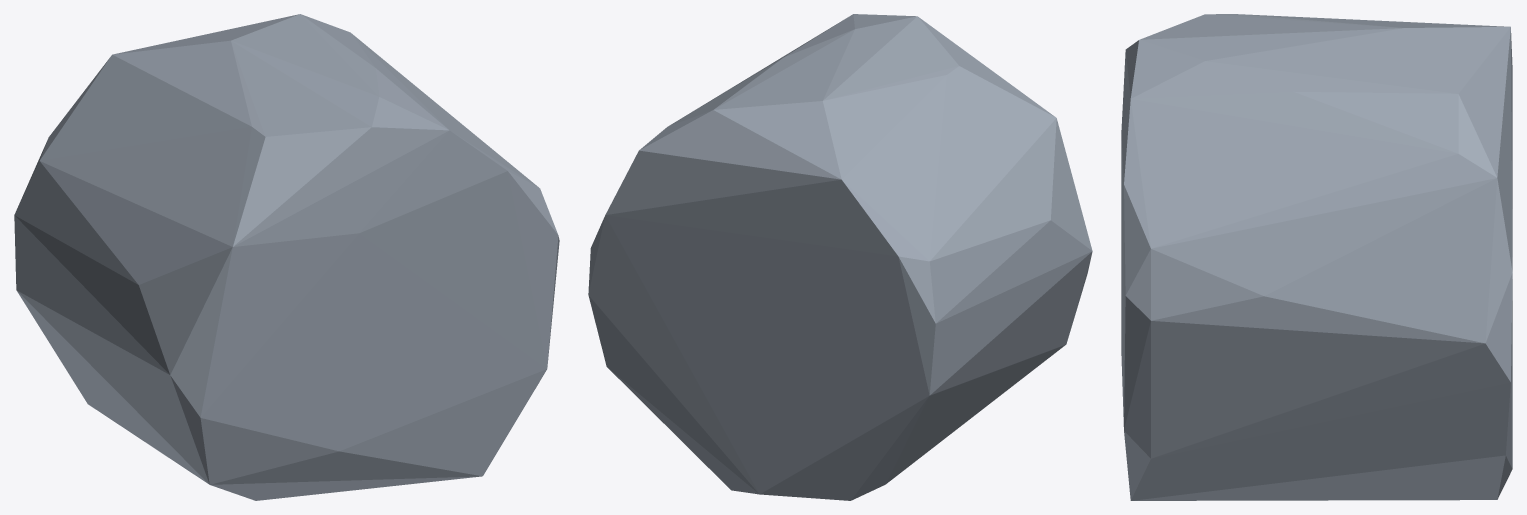
The model's file is bandage_medical_a03.glb.
3 renders of one model, left to right at view 1: azimuth 30°, elevation 25°; view 2: azimuth 150°, elevation 25°; view 3: azimuth 270°, elevation 25°, orthographic. The views are drawn at different scales.
Visible parts, largest first — view 1: geometry_0; view 2: geometry_0; view 3: geometry_0.
Boxes of the visible parts, <box> form: geometry_0: <box>14,14,559,500</box>; geometry_0: <box>588,14,1092,500</box>; geometry_0: <box>1121,14,1512,500</box>.
Bounding box in the file's own units: 0.476 × 0.4776 × 0.3782.
